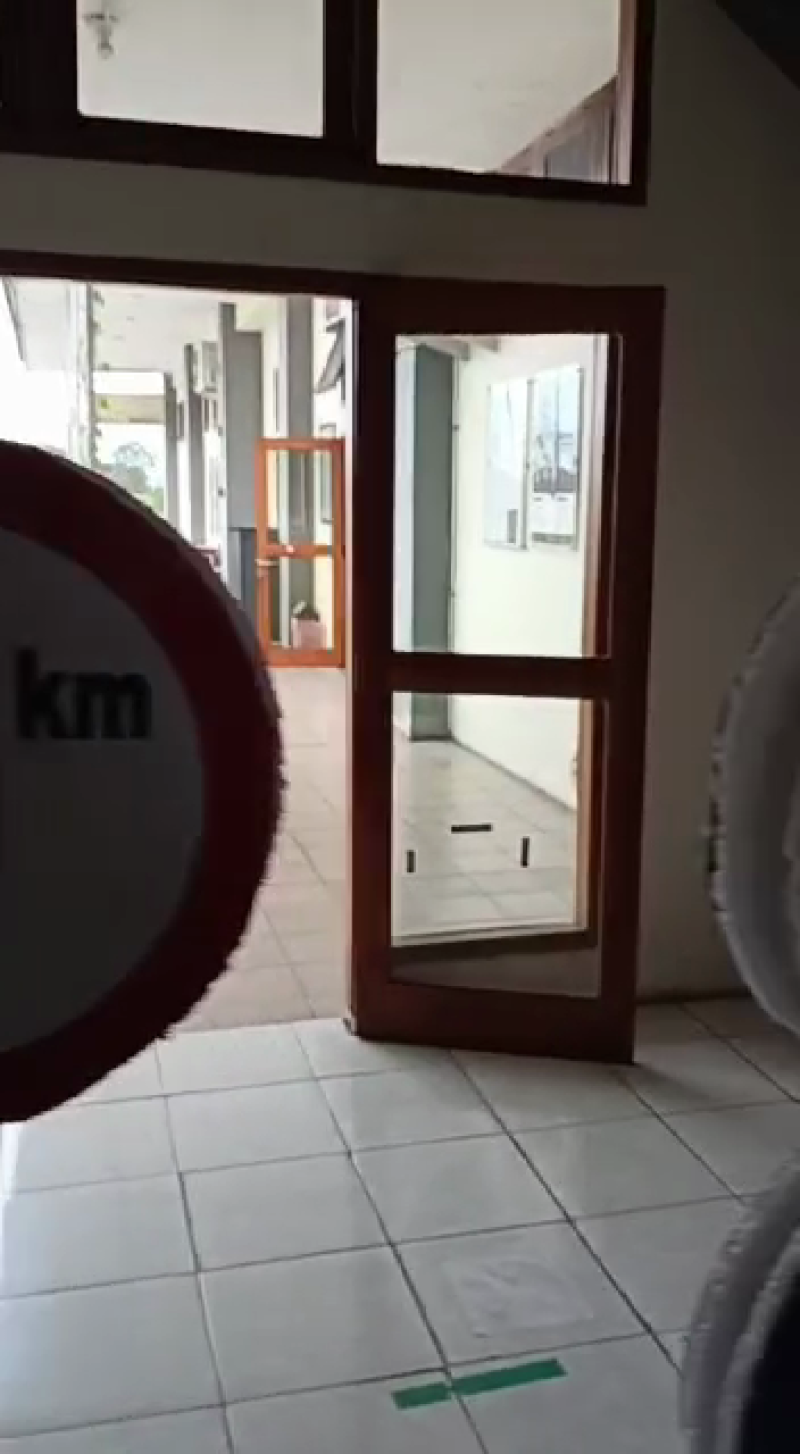batas maksimal 40kmperjam: (1, 411, 320, 1146)
